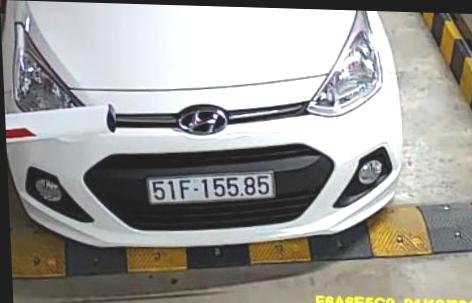License_Plate: (144, 164, 279, 210)
